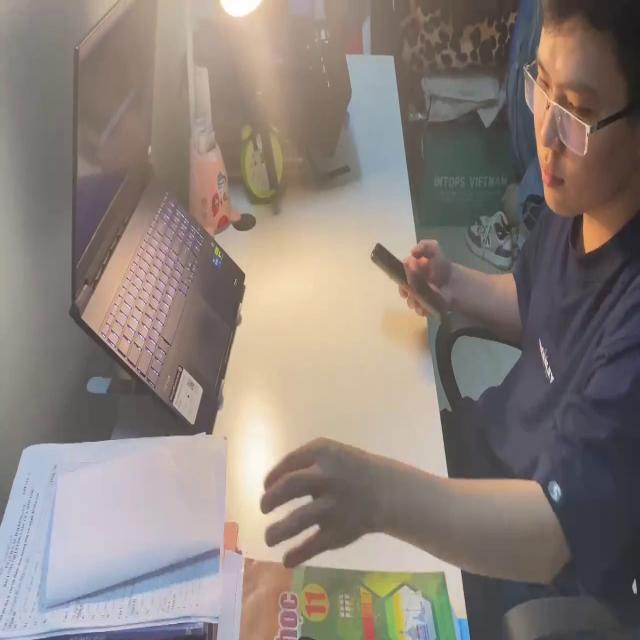book: (1, 437, 231, 640), (240, 560, 452, 640)
laptop: (68, 8, 248, 435)
phone: (368, 237, 448, 329)
student: (249, 0, 640, 615)
